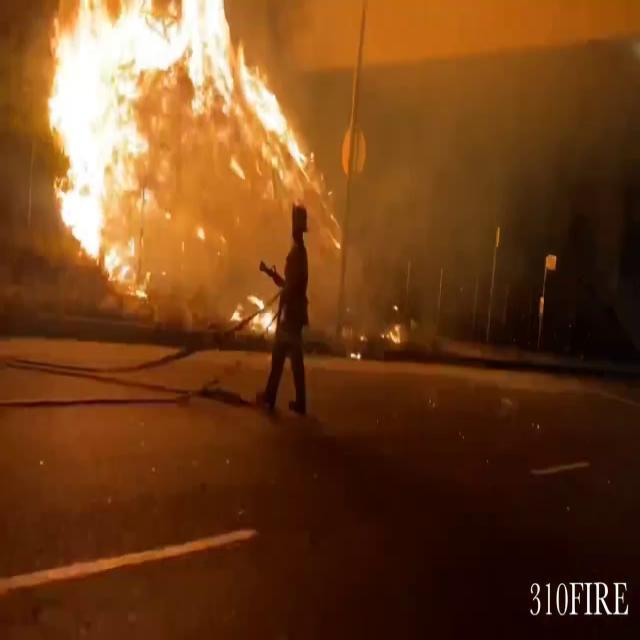Fire: (22, 0, 310, 288)
Smoke: (294, 0, 636, 273)
